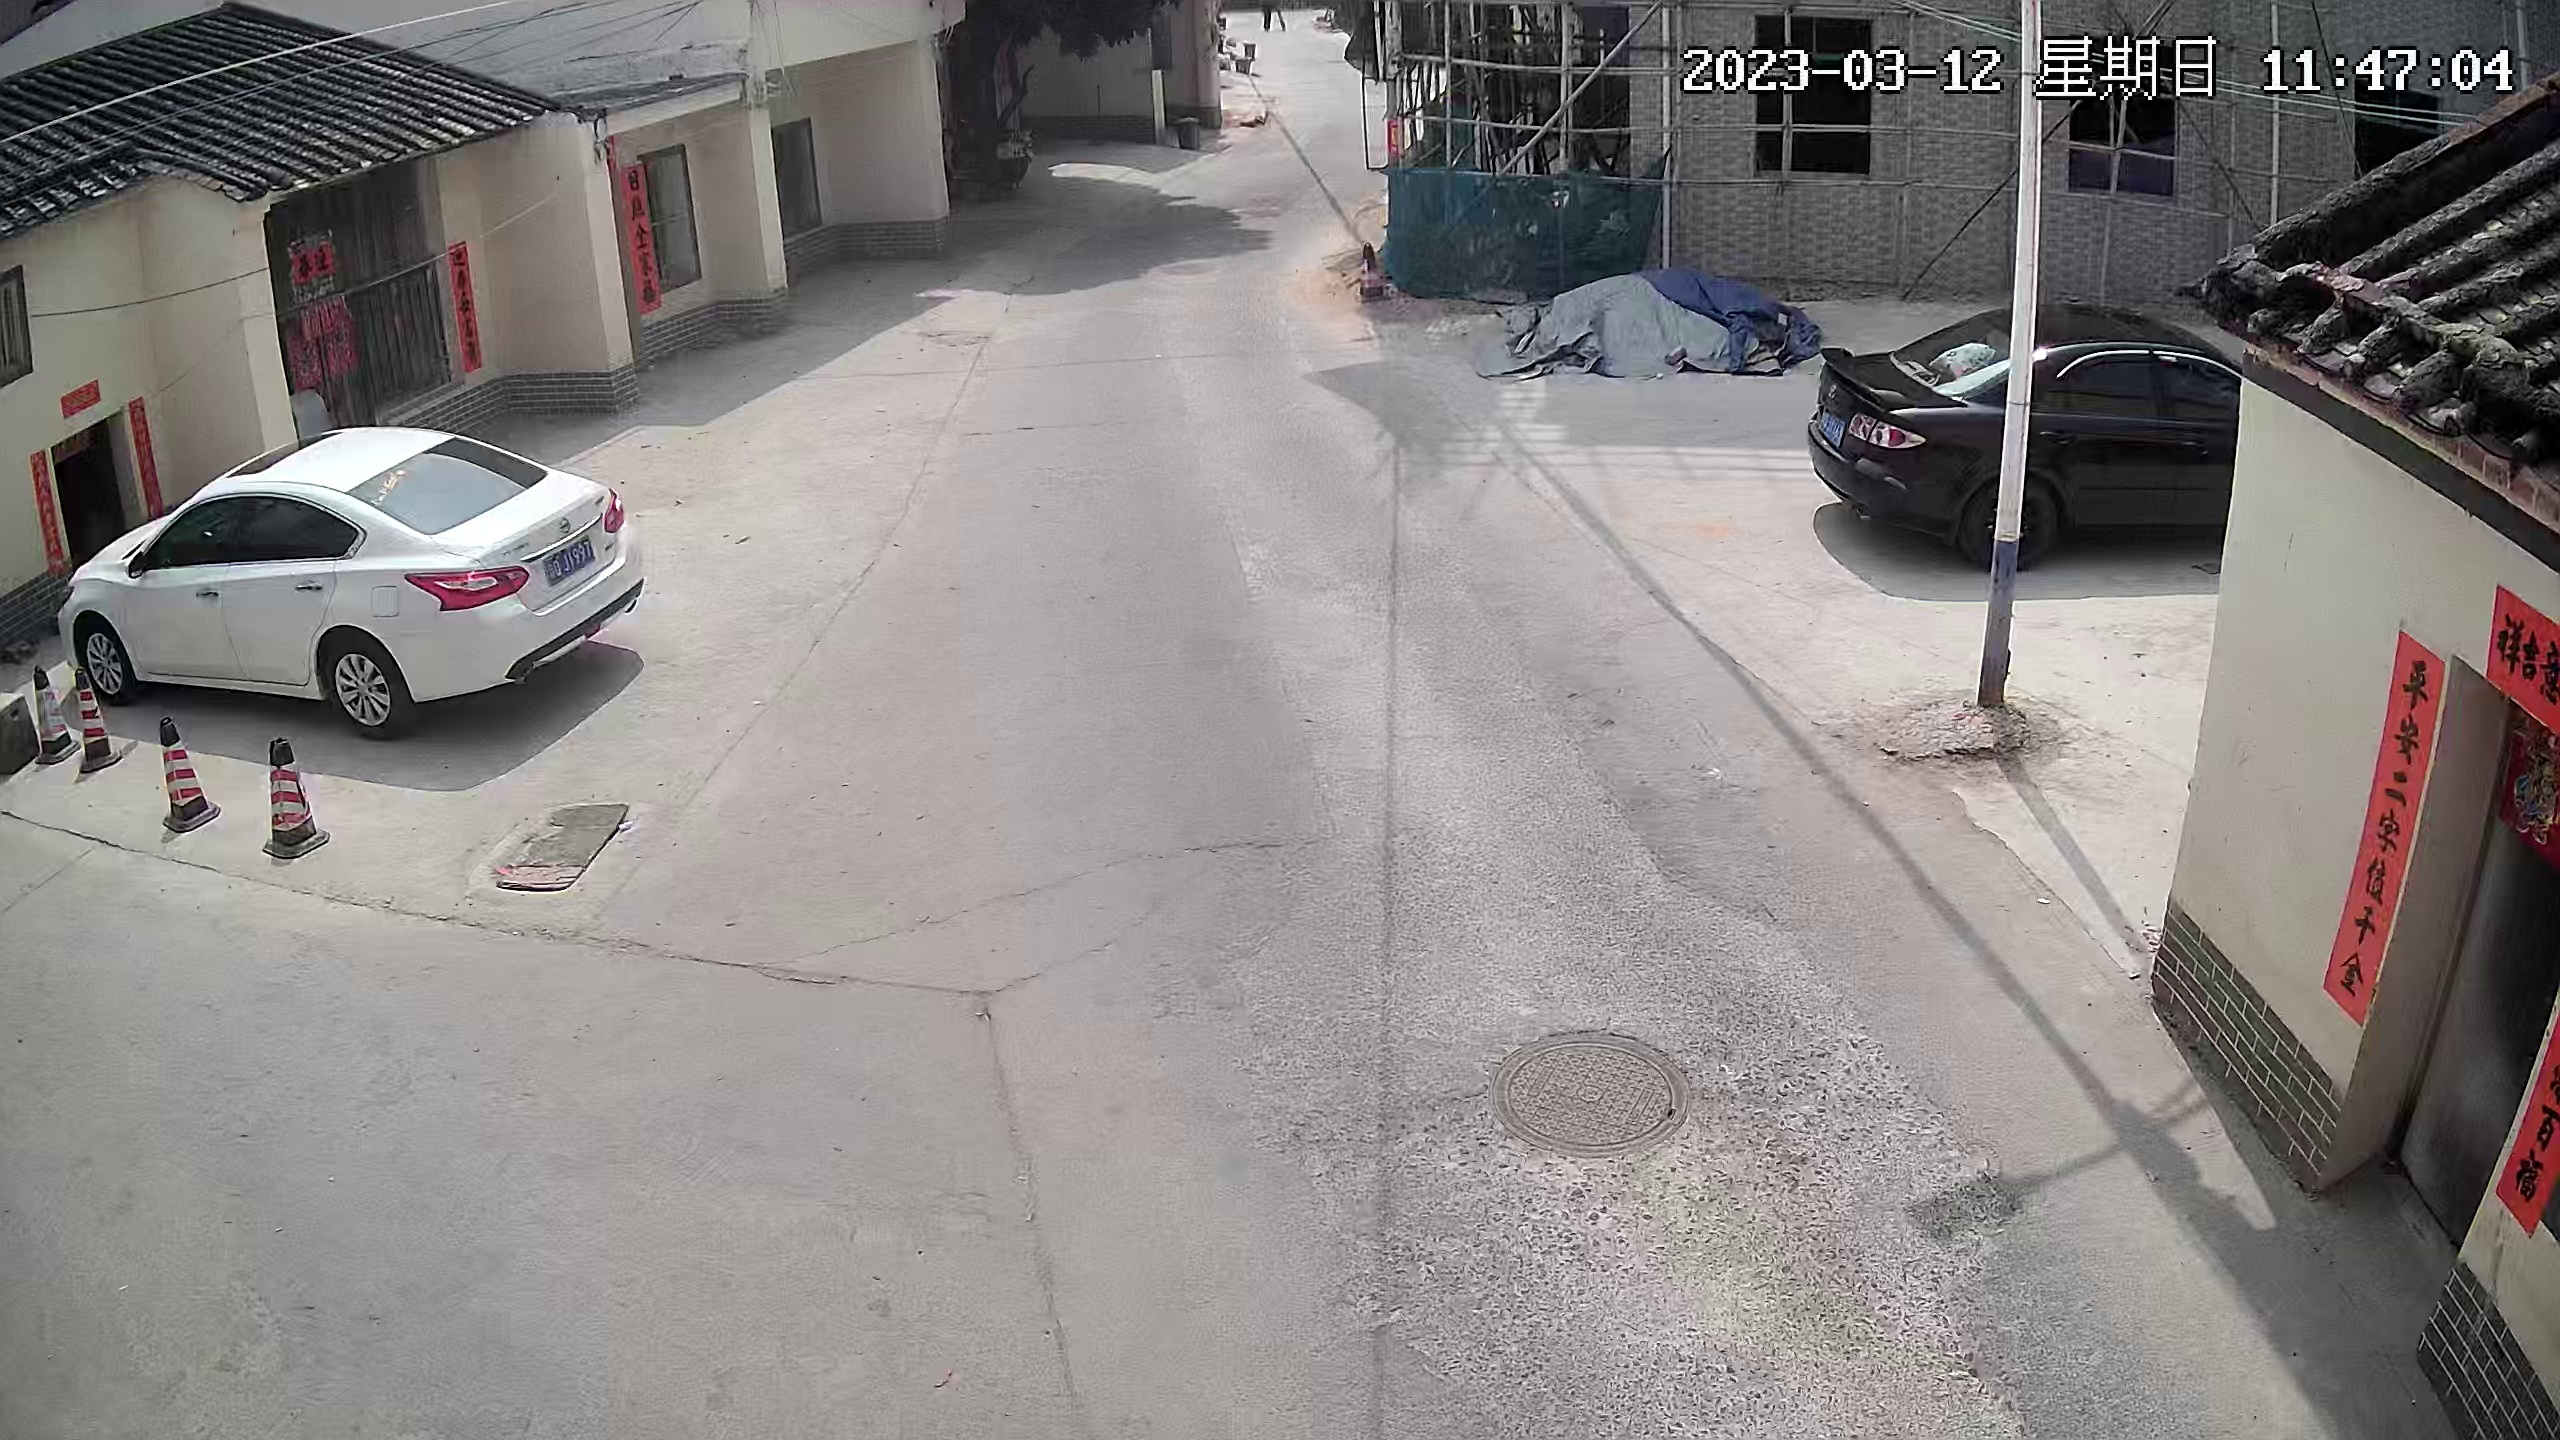sedan: (44, 425, 647, 724), (1825, 290, 2244, 585)
